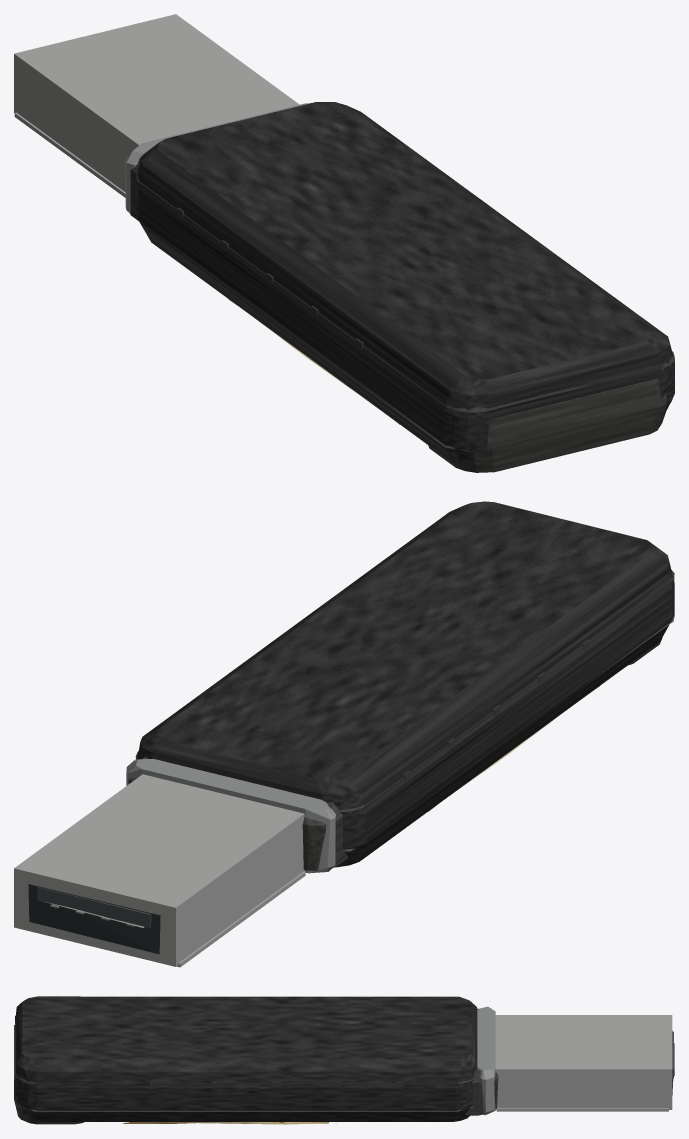
The model's file is usb_backup.glb.
3 renders of one model, top to bottom at view 1: azimuth 30°, elevation 25°; view 2: azimuth 150°, elevation 25°; view 3: azimuth 270°, elevation 25°, orthographic. The views are drawn at different scales.
Parts seen in each view (by area): view 1: USB body / bevelled plastic shell, lanyard socket worn rim, USB body / lower perimeter trim, Ferrule / scratched rim; view 2: USB body / bevelled plastic shell, lanyard socket worn rim, Ferrule / scratched rim, lanyard slot dark void, USB body / lower perimeter trim, USB body / seam near top; view 3: USB body / bevelled plastic shell, lanyard socket worn rim, USB body / lower perimeter trim, Ferrule / scratched rim, USB body / seam near top, Raised torn paper label - source texture.
Boxes of the visible parts, left/top/right/bottom form: USB body / bevelled plastic shell: left=135, top=102, right=674, bottom=463; lanyard socket worn rim: left=14, top=14, right=299, bottom=197; USB body / lower perimeter trim: left=130, top=156, right=674, bottom=472; Ferrule / scratched rim: left=125, top=103, right=310, bottom=213; USB body / bevelled plastic shell: left=137, top=501, right=674, bottom=867; lanyard socket worn rim: left=14, top=774, right=305, bottom=967; Ferrule / scratched rim: left=44, top=758, right=335, bottom=927; lanyard slot dark void: left=28, top=884, right=160, bottom=954; USB body / lower perimeter trim: left=128, top=570, right=674, bottom=871; USB body / seam near top: left=37, top=614, right=674, bottom=927; USB body / bevelled plastic shell: left=15, top=996, right=477, bottom=1121; lanyard socket worn rim: left=495, top=1015, right=672, bottom=1111; USB body / lower perimeter trim: left=14, top=1008, right=498, bottom=1124; Ferrule / scratched rim: left=477, top=1006, right=674, bottom=1115; USB body / seam near top: left=17, top=1031, right=673, bottom=1111; Raised torn paper label - source texture: left=123, top=1122, right=336, bottom=1124.
Size of the model in its own units: 0.0254 by 0.00998 by 0.0928.
Materials: 8 (4 with a texture image).
